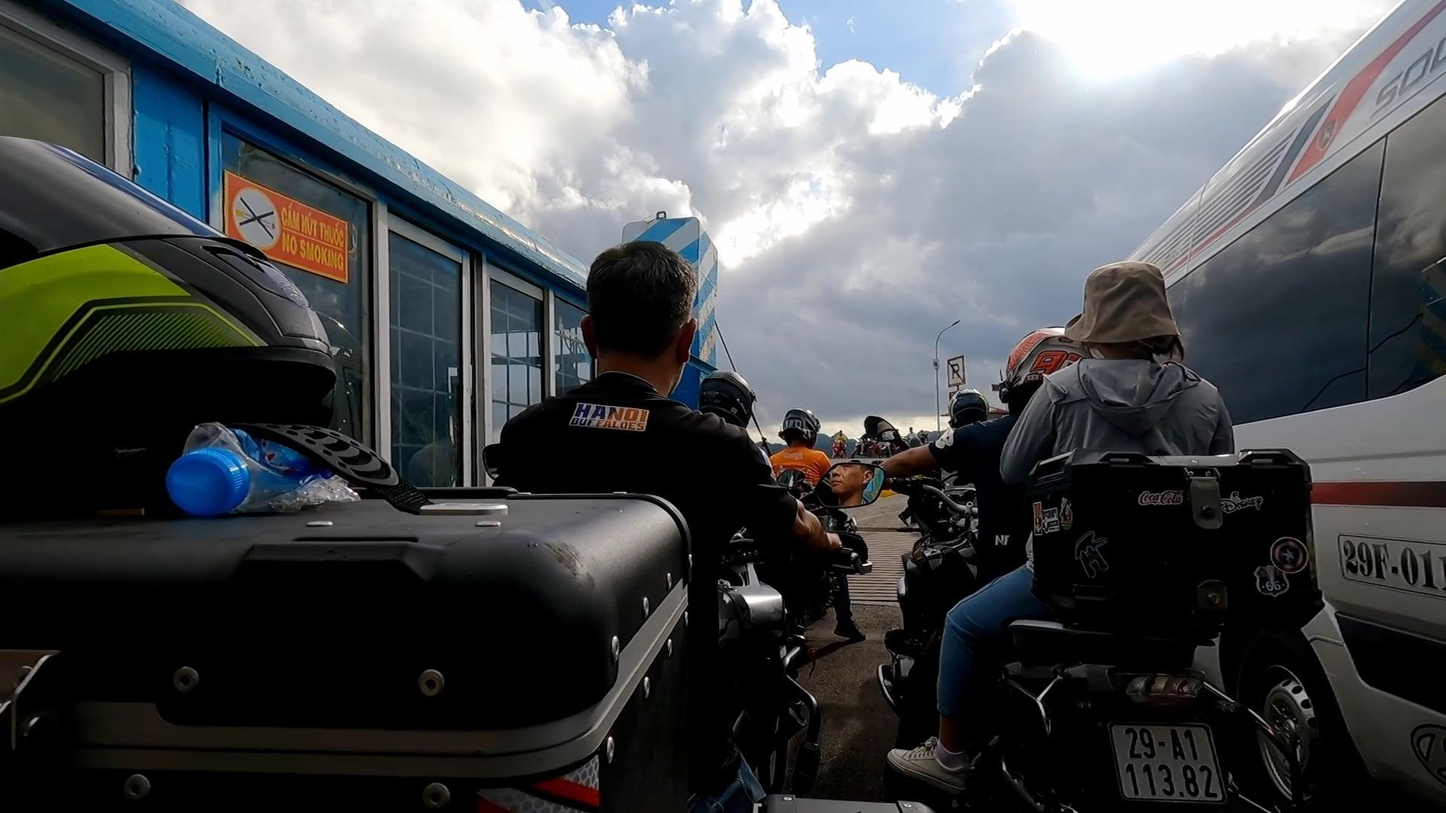driver: (0, 133, 886, 813), (864, 259, 1327, 813)
helmet: (1006, 326, 1092, 415), (699, 369, 759, 429), (779, 409, 821, 450), (947, 389, 990, 428)
no-helmet: (581, 238, 696, 399), (1064, 259, 1186, 362)
